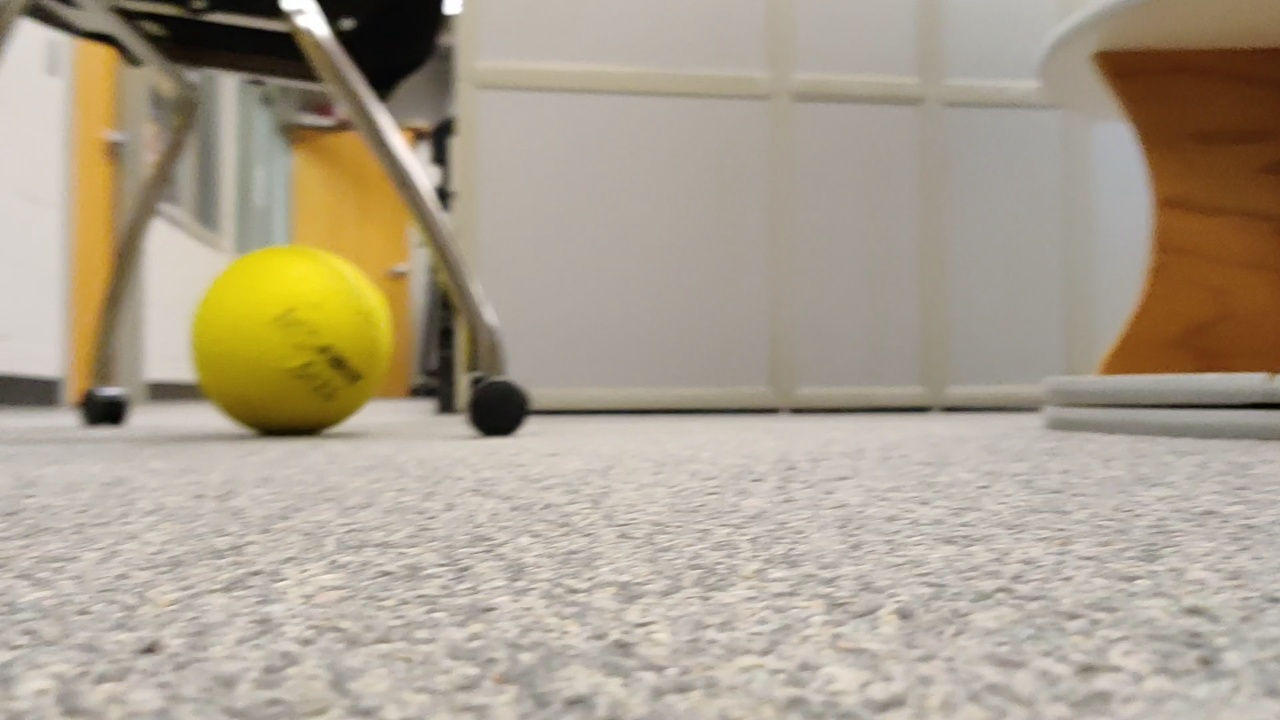Ball: (192, 248, 380, 440)
